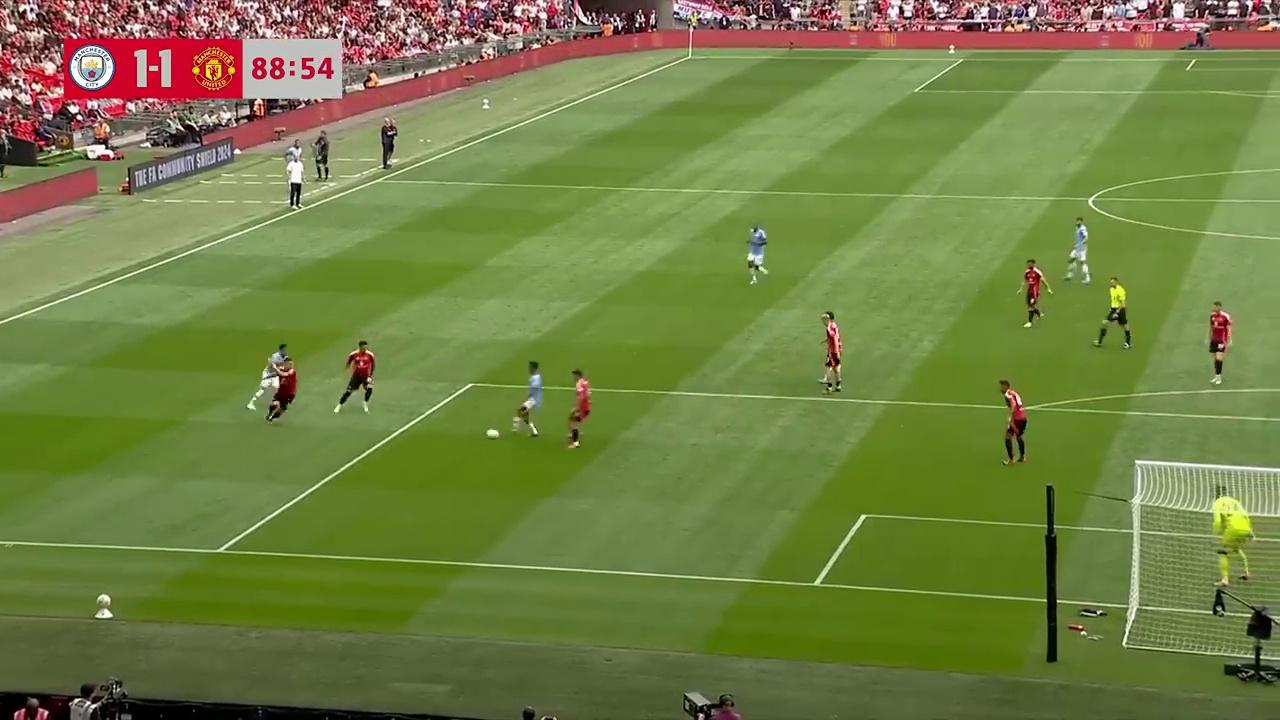ball: (484, 425, 501, 440)
player: (1213, 481, 1251, 593), (333, 338, 375, 415), (254, 345, 291, 418), (999, 379, 1029, 465), (264, 357, 300, 428), (511, 361, 543, 437), (1017, 259, 1052, 327), (1207, 300, 1233, 384), (566, 368, 591, 448), (819, 311, 843, 394), (1064, 216, 1091, 285), (745, 223, 769, 284)
referee: (1093, 275, 1132, 349)
